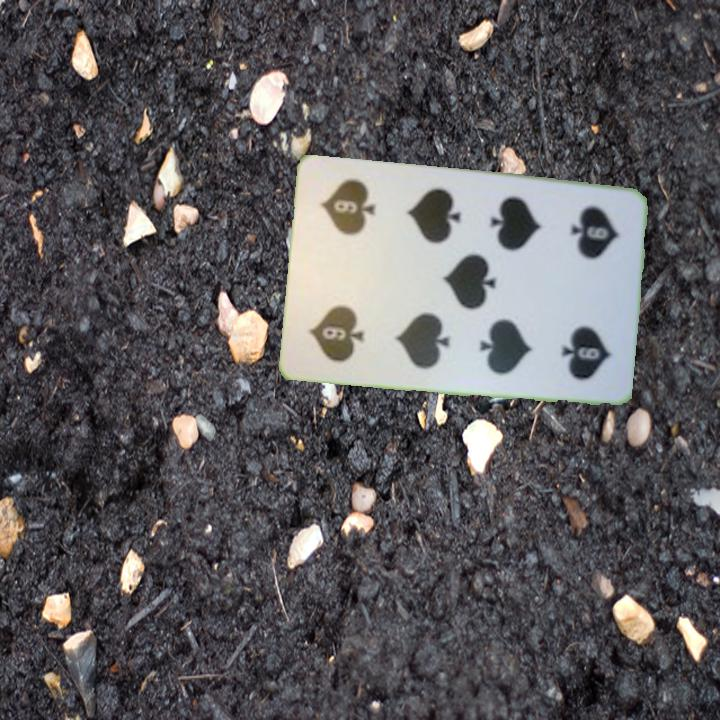s_9.png: (295, 264, 390, 371), (539, 192, 633, 299)
